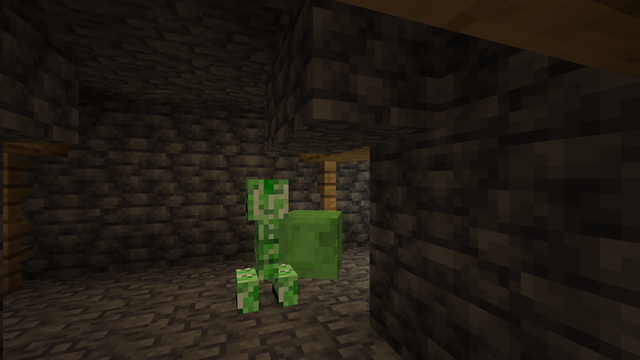creepers: (241, 173, 292, 315)
slimes: (299, 207, 350, 279)
